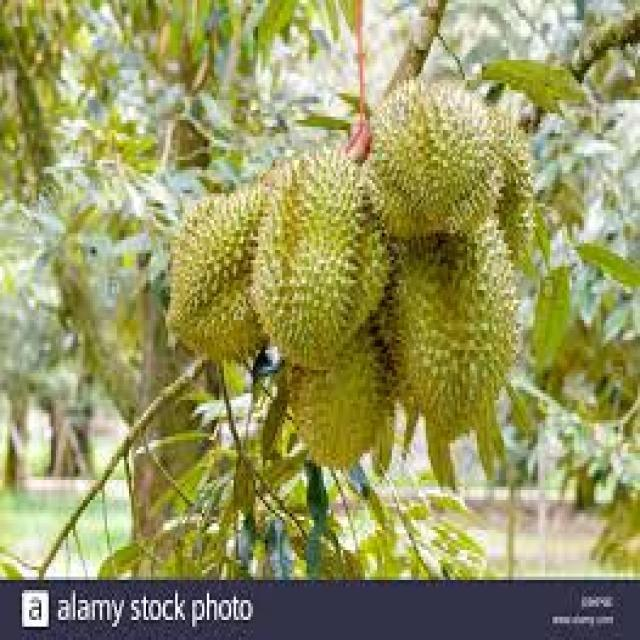mature: (384, 203, 526, 437), (251, 142, 392, 367), (362, 77, 507, 241)
